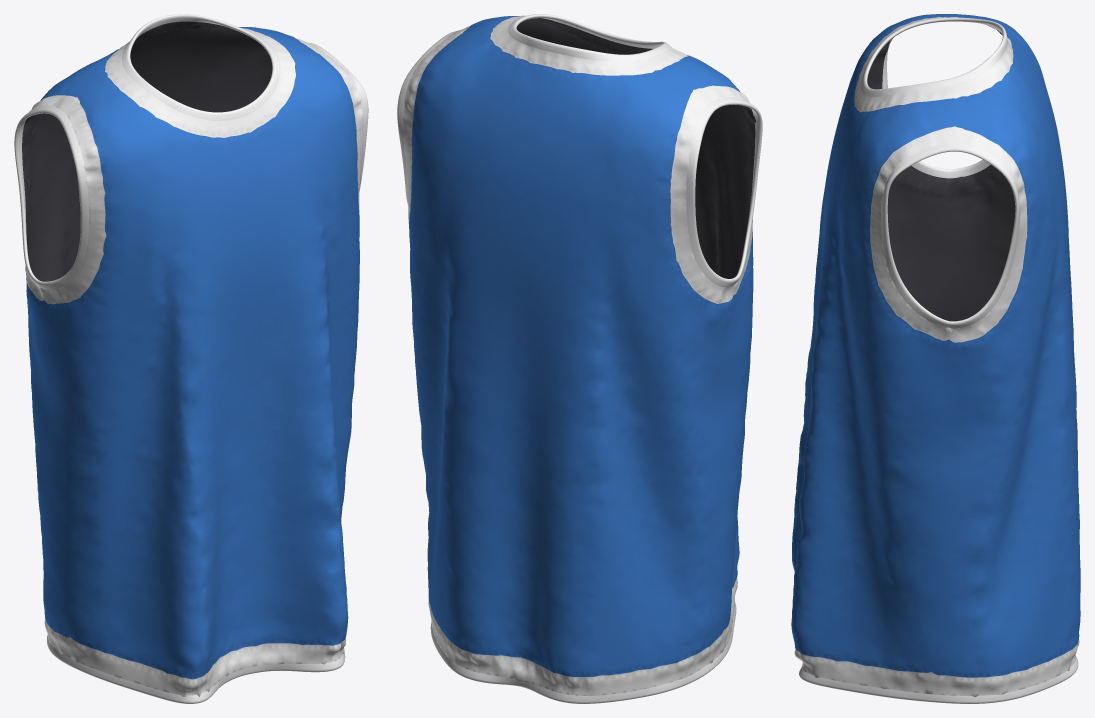
File: pacer.glb
The picture shows the model from 3 angles, left to right: view 1: azimuth 30°, elevation 25°; view 2: azimuth 150°, elevation 25°; view 3: azimuth 270°, elevation 25°; orthographic projection. The views are drawn at different scales.
Parts seen in each view (by area): view 1: Jersey; view 2: Jersey; view 3: Jersey.
Boxes of the visible parts, x1,y1,x2,y2 form: Jersey: (14,14,368,703); Jersey: (397,14,762,703); Jersey: (791,14,1080,703).
Bounding box in the file's own units: 1.42 × 2.65 × 1.13.
